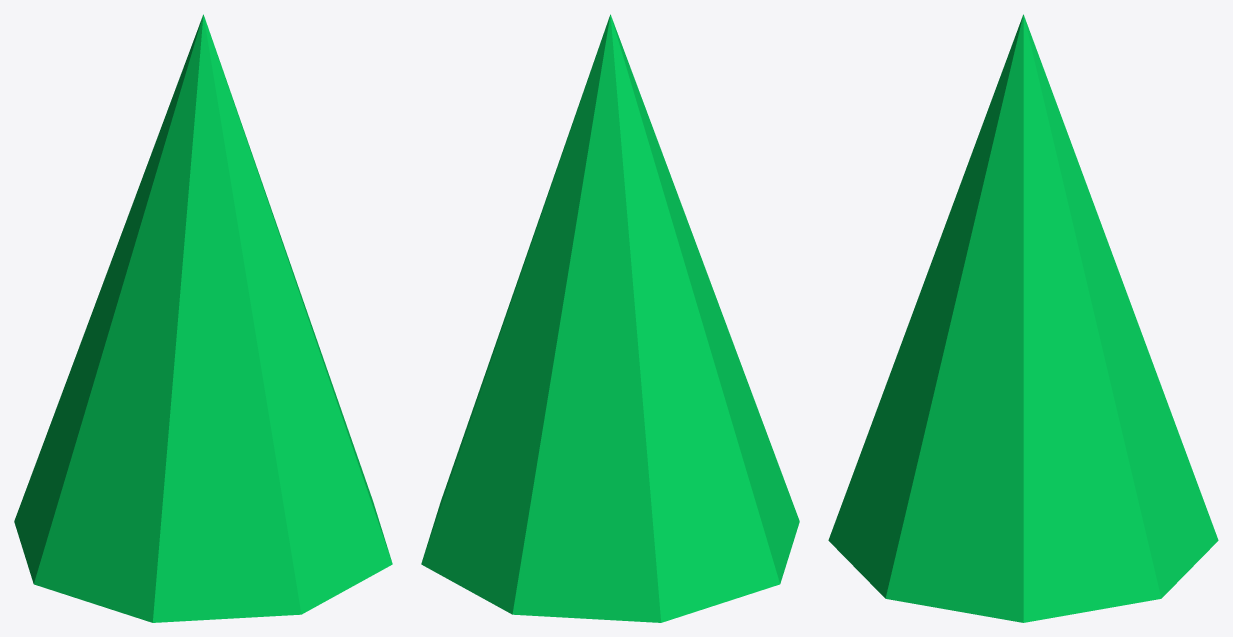
The model's file is laserUFO.fbx.
3 views of the same model, side by side, from view 1: azimuth 30°, elevation 25°; view 2: azimuth 150°, elevation 25°; view 3: azimuth 270°, elevation 25° (orthographic).
Visible parts, largest first — view 1: Cone; view 2: Cone; view 3: Cone.
Part boxes in pixels (x1,y1,x2,y2): Cone: [14, 14, 392, 622]; Cone: [421, 14, 799, 622]; Cone: [828, 14, 1218, 622].
Bounding box in the file's own units: 856 × 1275 × 856.
